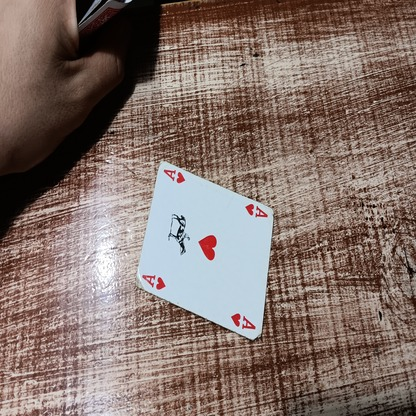Ah: (140, 271, 165, 289), (163, 166, 186, 185), (230, 313, 255, 328), (243, 203, 268, 217)
